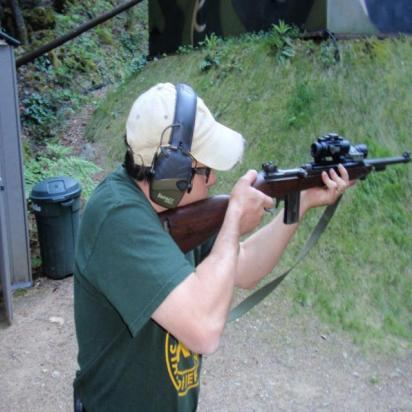Gun: (157, 125, 412, 263)
